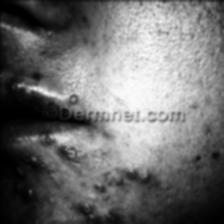Toxin: (0, 146, 151, 224), (65, 92, 83, 104)
